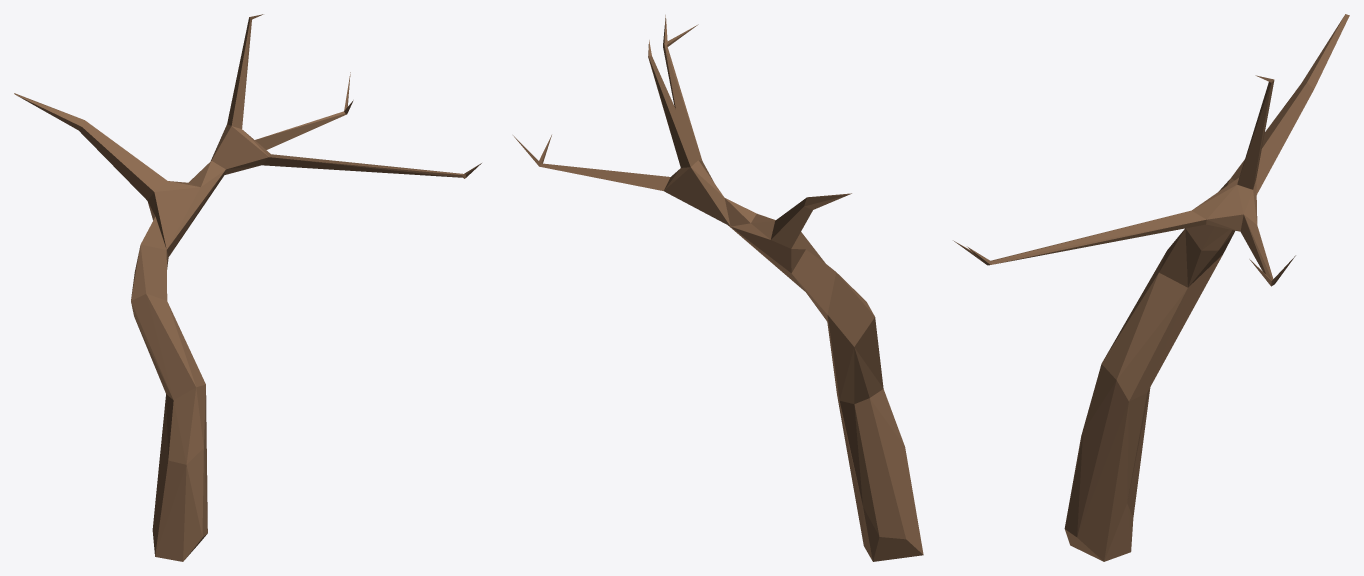
File: arbolQuemado2.fbx
3 renders of one model, left to right at view 1: azimuth 30°, elevation 25°; view 2: azimuth 150°, elevation 25°; view 3: azimuth 270°, elevation 25°, orthographic. The views are drawn at different scales.
Visible parts, largest first — view 1: Cube; view 2: Cube; view 3: Cube.
Part boxes in pixels (x1,y1,x2,y2): Cube: [14, 14, 481, 561]; Cube: [513, 15, 923, 561]; Cube: [953, 14, 1349, 561].
Size of the model in its own units: 619 by 851 by 543.
